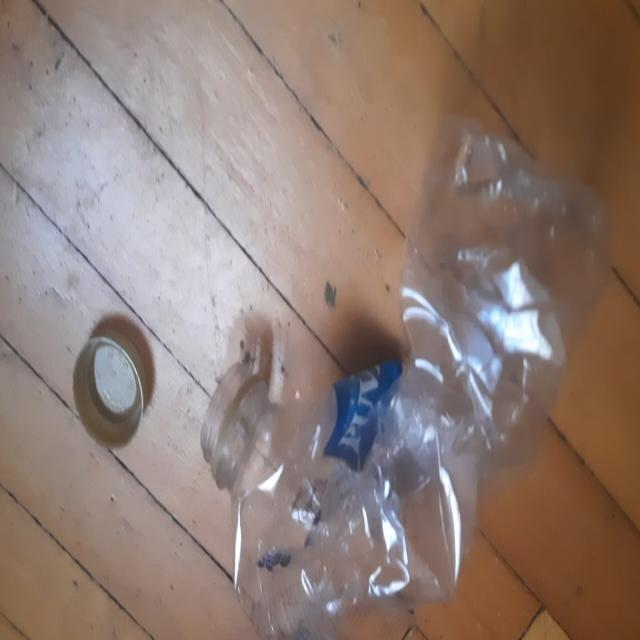Plastic: (203, 113, 612, 636)
